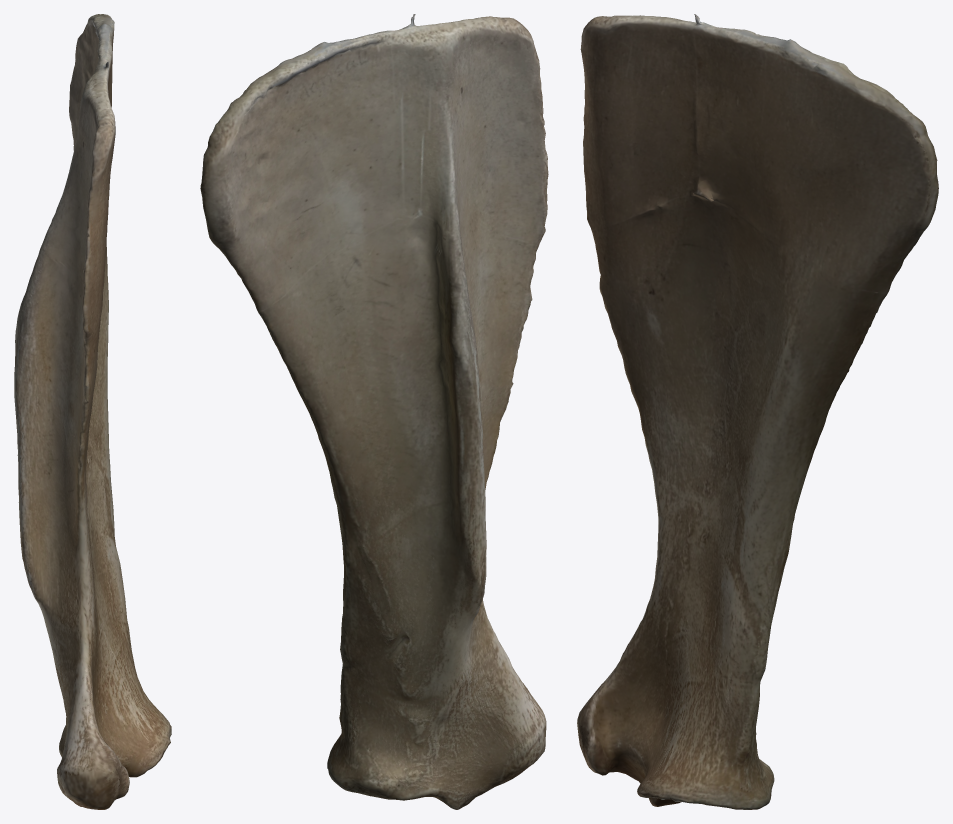
File: escápula-direita-equina.glb
3 views of the same model, side by side, from view 1: azimuth 30°, elevation 25°; view 2: azimuth 150°, elevation 25°; view 3: azimuth 270°, elevation 25° (orthographic). The views are drawn at different scales.
Visible parts, largest first — view 1: 3DModel_LowPoly; view 2: 3DModel_LowPoly; view 3: 3DModel_LowPoly.
Boxes of the visible parts, x1,y1,x2,y2 form: 3DModel_LowPoly: (14, 14, 171, 809); 3DModel_LowPoly: (200, 14, 548, 809); 3DModel_LowPoly: (577, 14, 938, 809).
Size of the model in its own units: 0.4468 by 1.81 by 0.7341.
1 material, 1 textured.
